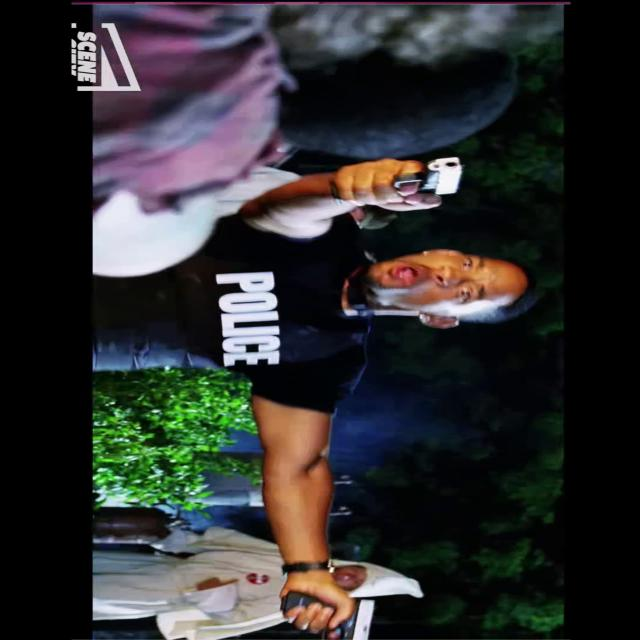weapons: (336, 151, 478, 221)
